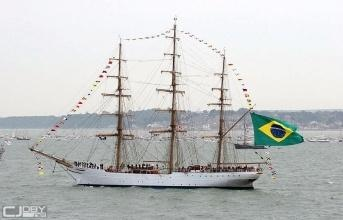fanchuan: (33, 16, 305, 188)
